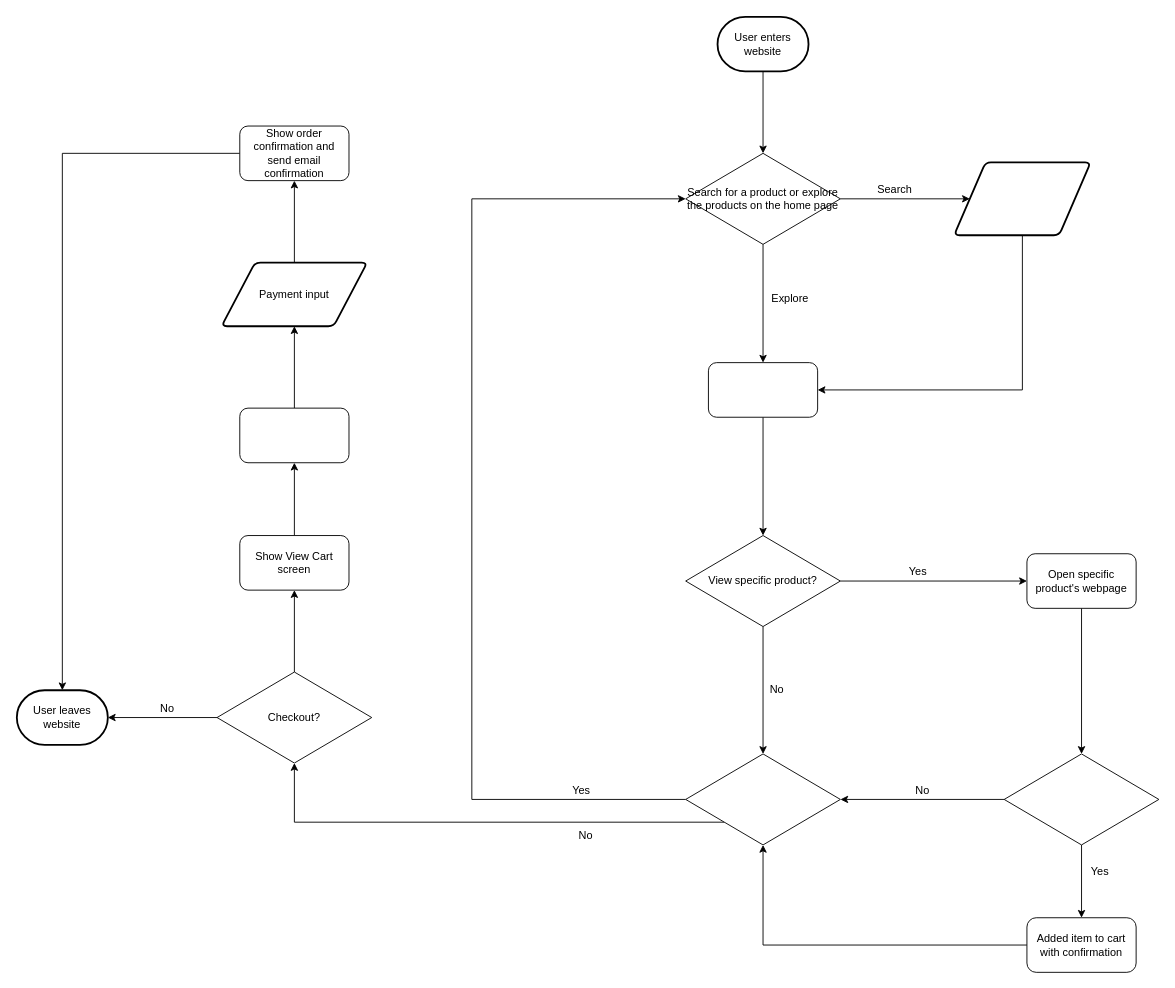
Image size: 1175x988. Some labels were removed from this diagram. The shapes that lost their labels are listed below. From the top down, each one's centre as x and y in pixels, then its label:
At point 1022,198: "Search input".
At point 763,389: "Show relevant products to look over".
At point 294,435: "Show View Payment screen".
At point 762,799: "Continue shopping?".
At point 1081,799: "Add item to cart?".
